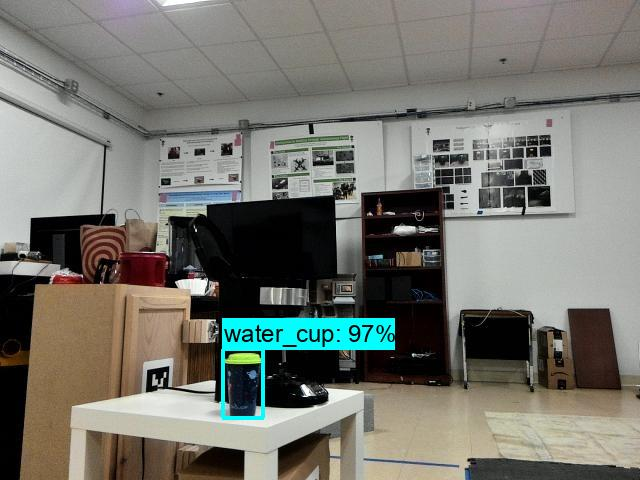water_cup: (224, 350, 263, 415)
